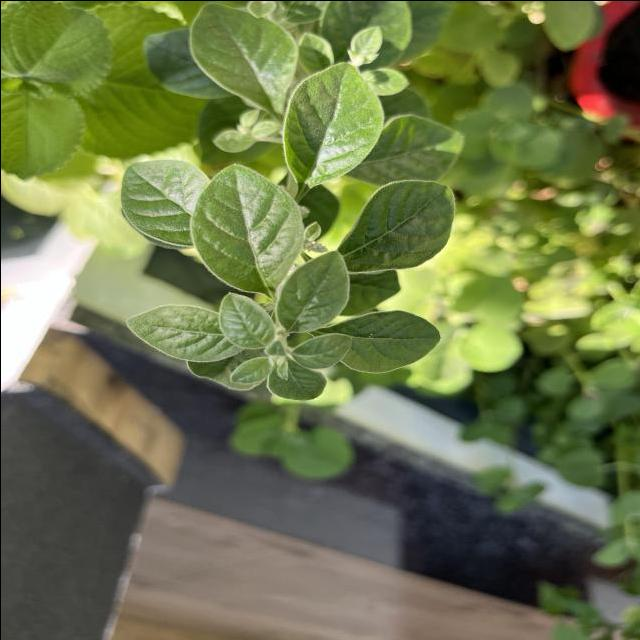Aerva lanata: (185, 160, 308, 295), (278, 58, 388, 188), (338, 175, 458, 278), (116, 156, 210, 248), (324, 306, 443, 375), (122, 300, 230, 364), (272, 248, 352, 334)
